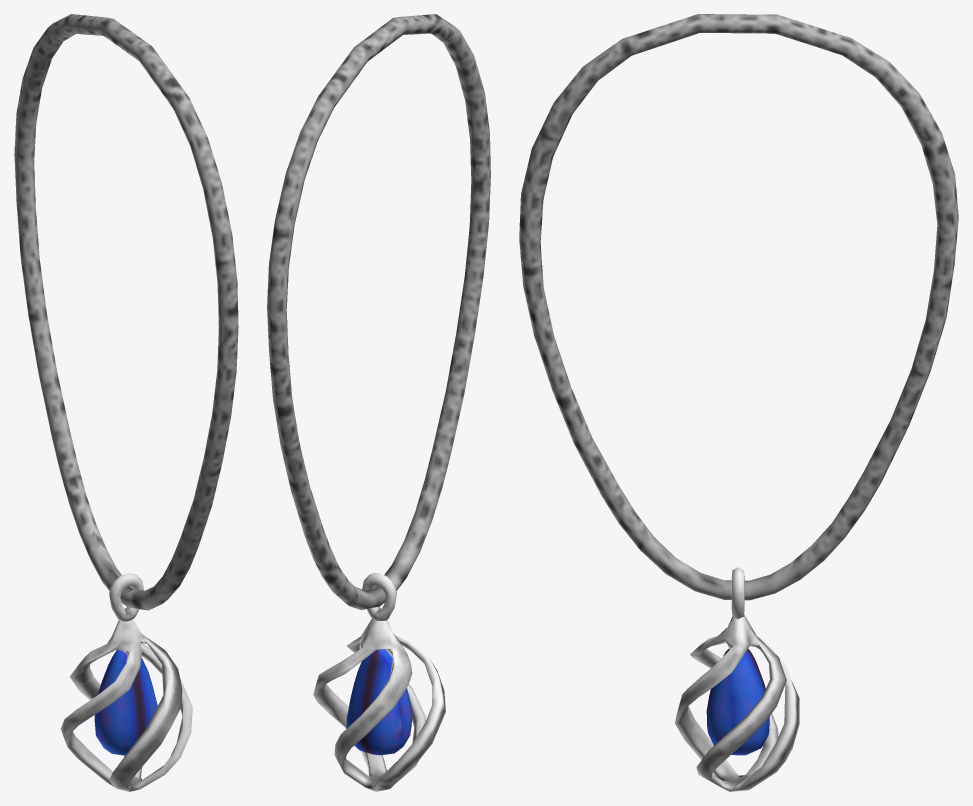
Rendered from SM_Necklace_B_Silver.fbx.
3 renders of one model, left to right at view 1: azimuth 30°, elevation 25°; view 2: azimuth 150°, elevation 25°; view 3: azimuth 270°, elevation 25°, orthographic. The views are drawn at different scales.
Visible parts, largest first — view 1: SM_Necklace_B_Silver_LOD0; view 2: SM_Necklace_B_Silver_LOD0; view 3: SM_Necklace_B_Silver_LOD0.
Part boxes in pixels (x1,y1,x2,y2): SM_Necklace_B_Silver_LOD0: (14,14,238,791); SM_Necklace_B_Silver_LOD0: (267,14,490,791); SM_Necklace_B_Silver_LOD0: (519,14,958,791).
Bounding box in the file's own units: 2.93 × 9.34 × 18.16.
